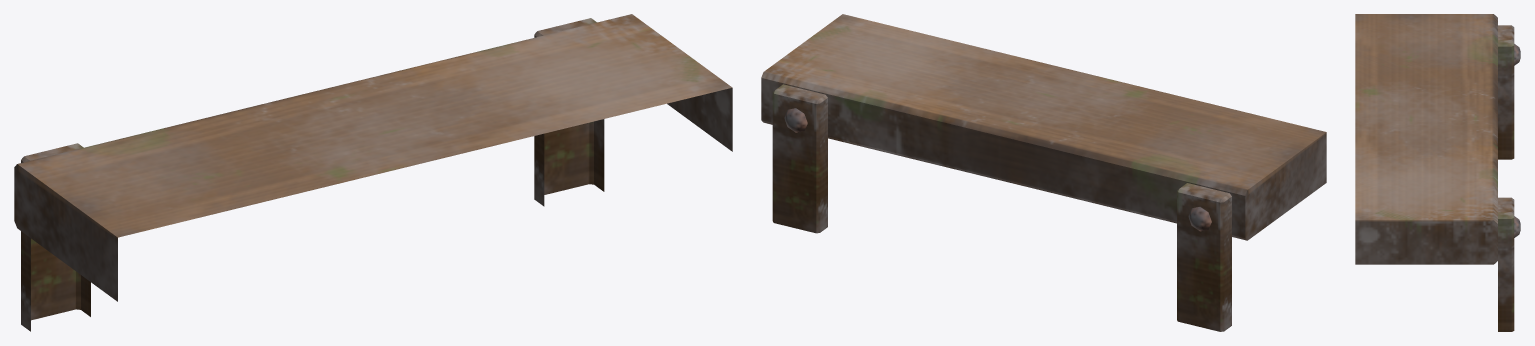
The model's file is SM_Table.fbx.
3 renders of one model, left to right at view 1: azimuth 30°, elevation 25°; view 2: azimuth 150°, elevation 25°; view 3: azimuth 270°, elevation 25°, orthographic. The views are drawn at different scales.
Visible parts, largest first — view 1: Box076; view 2: Box076; view 3: Box076.
Part boxes in pixels (left/top/right/bottom): Box076: left=14, top=14, right=732, bottom=331; Box076: left=761, top=14, right=1326, bottom=331; Box076: left=1355, top=14, right=1520, bottom=331.
Bounding box in the file's own units: 207 × 70.16 × 56.16.
1 material, 1 textured.
